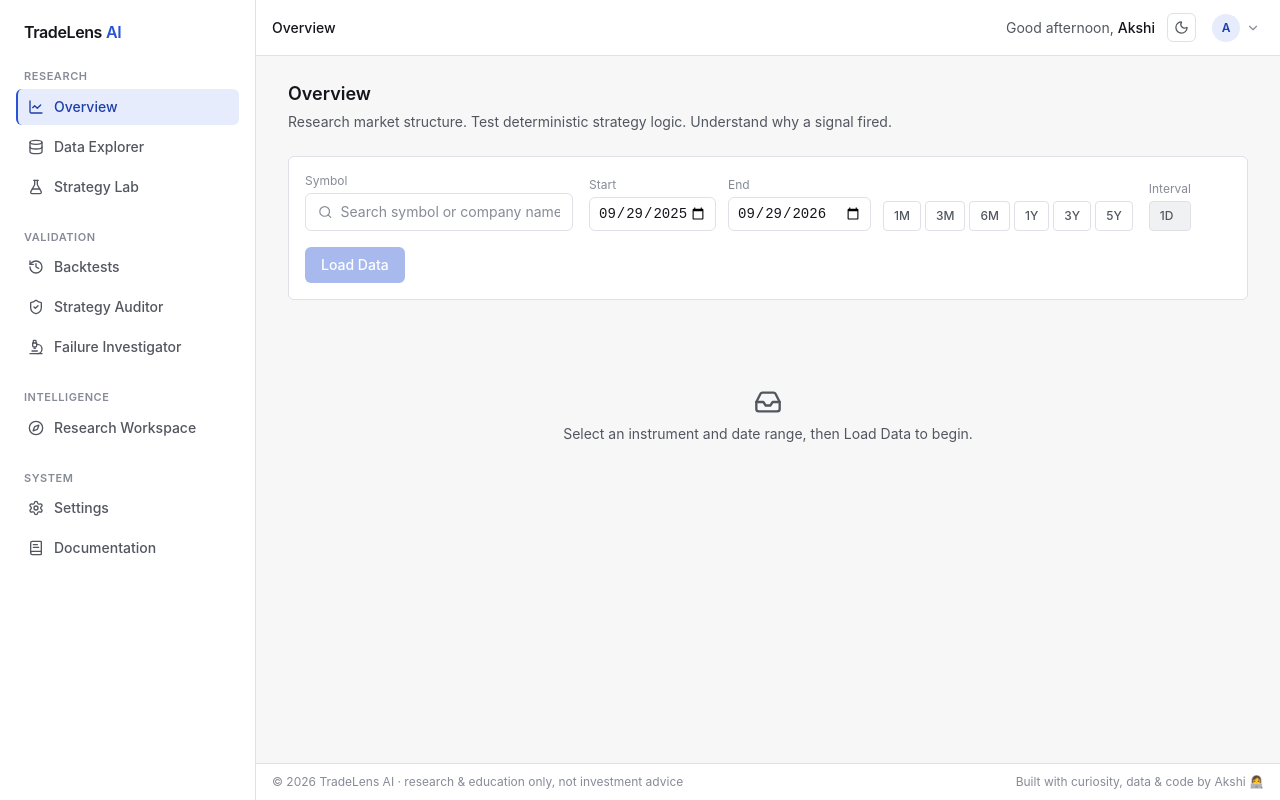
App routing (authenticated) › changes the rendered page when a sidebar link is clicked
This screenshot has width=1280, height=800.
Expected: the heading "Overview" is shown, [288, 83, 371, 104]
Click the link "Data Explorer": coordinates (86, 146) [28, 138, 144, 154]
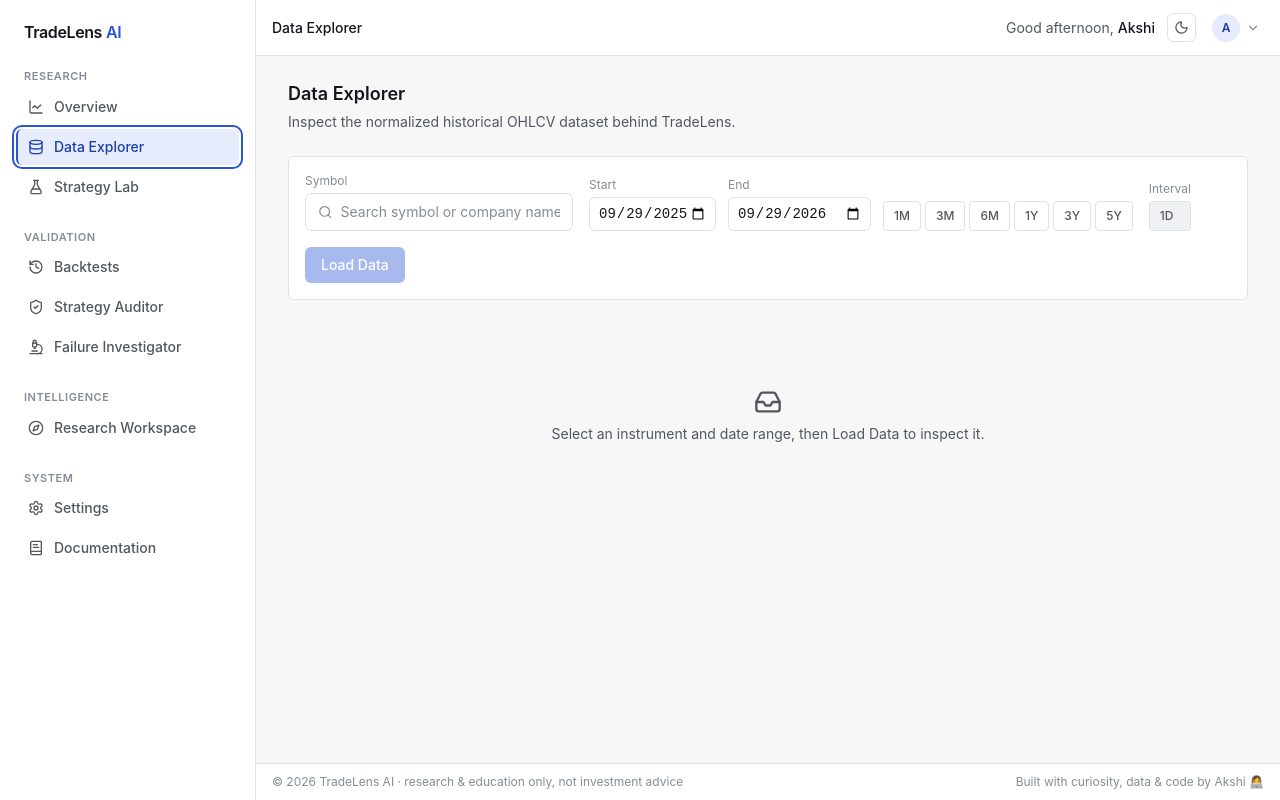
Now the heading "Data Explorer" is shown, box [288, 83, 405, 104]
